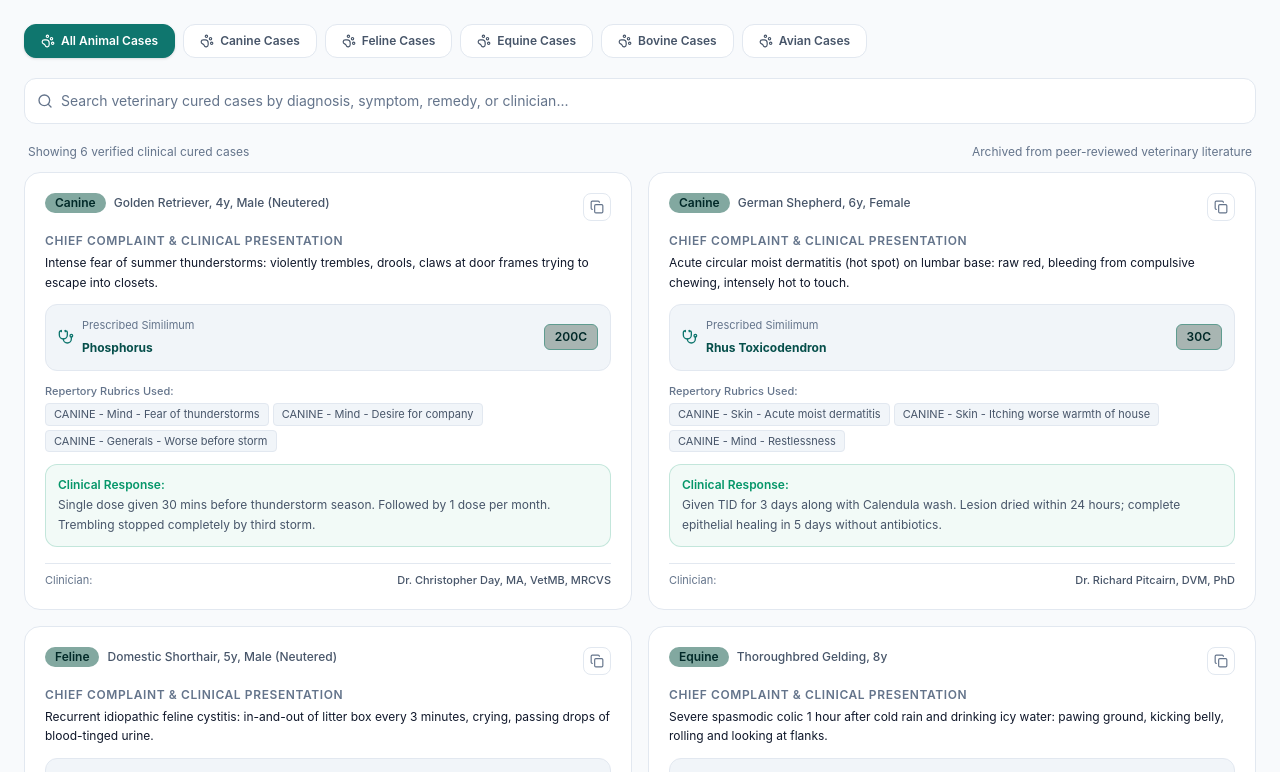
Test: VeterinaryCasesView Component › filters cases when selecting Equine species tab
The width and height of the screenshot is (1280, 772).
Check: the text "Phosphorus" is shown, box [82,340,153,354]
Step 1. Click the button "Equine Cases" → click(527, 41), box [460,24,593,58]
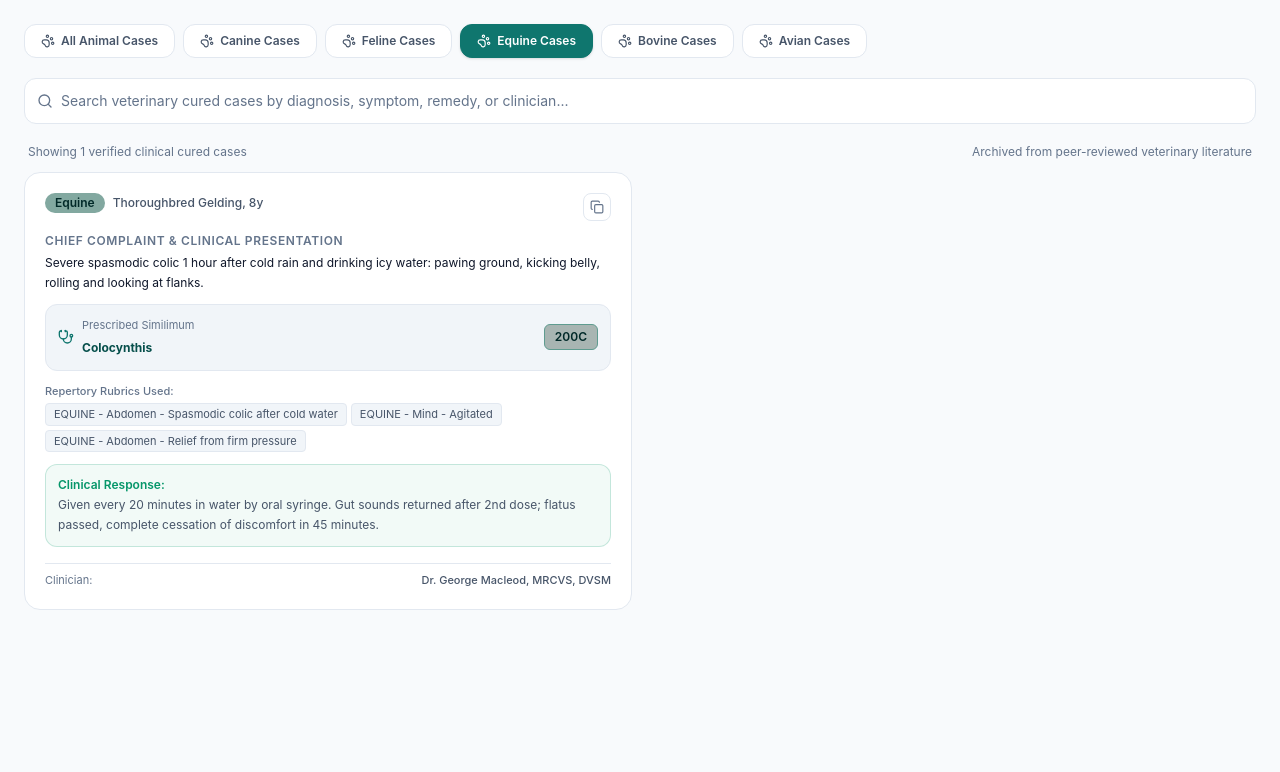
Check: the text "Colocynthis" is shown, box [82,340,152,354]
Check: the text "Phosphorus" is gone
